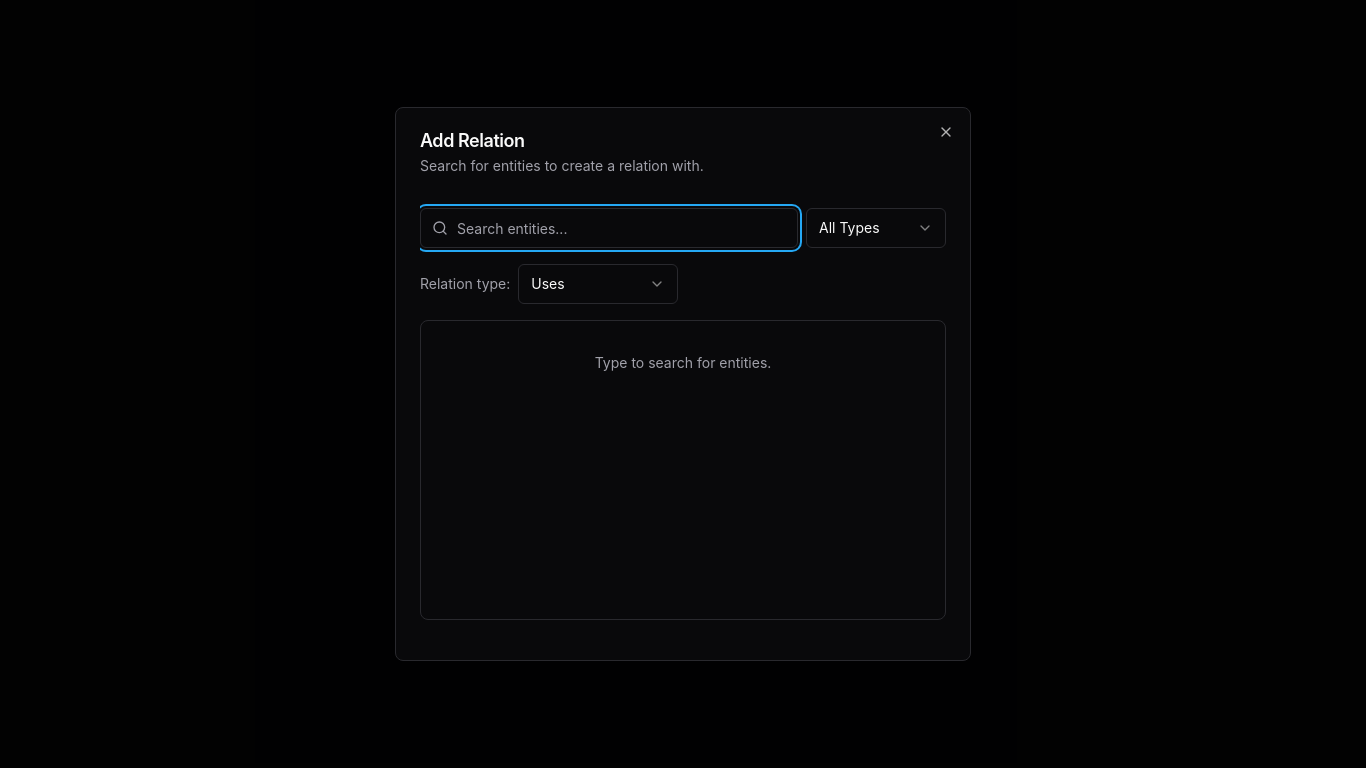
RelationPicker searchable entity types › offers org units, initiatives, and pain points in the default type filter
Click the dropdown labelled "All Types" at (876,228), box [806,208,946,248]
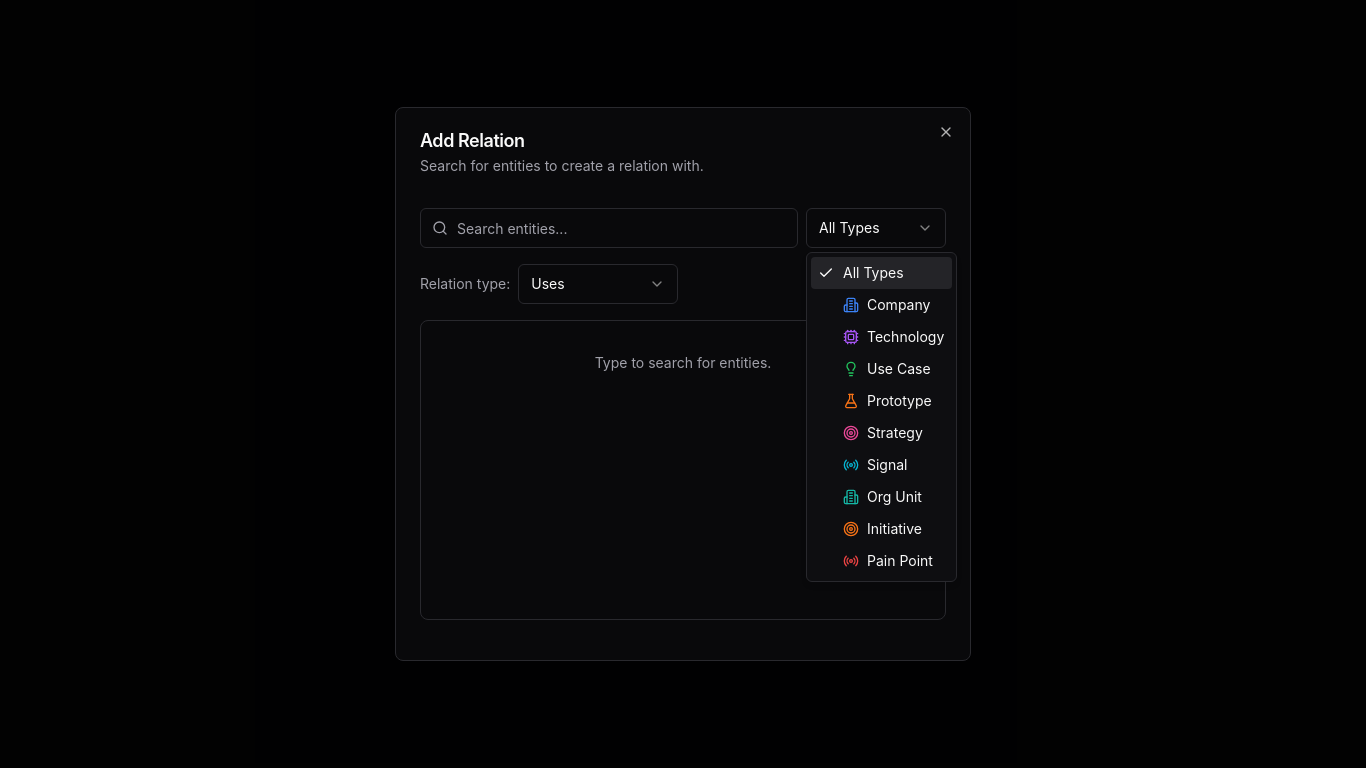
Expected: the option "Org Unit" is shown, [843,488,922,505]
Expected: the option "Initiative" is shown, [843,520,922,537]
Expected: the option "Pain Point" is shown, [843,552,933,569]
